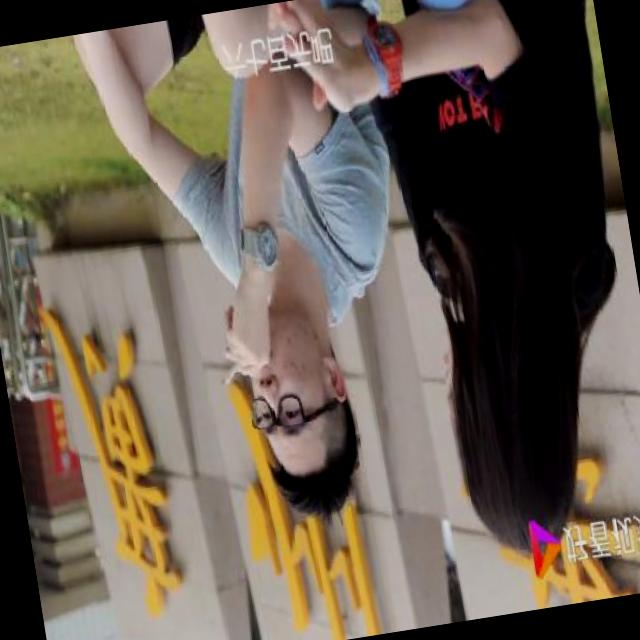smoke: (216, 356, 247, 395)
